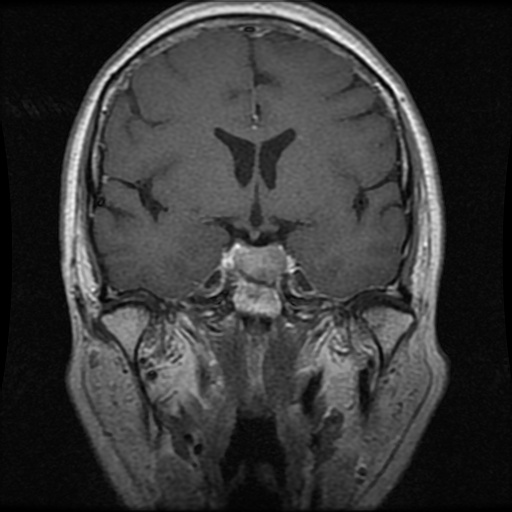pituitary: (219, 240, 298, 284)
